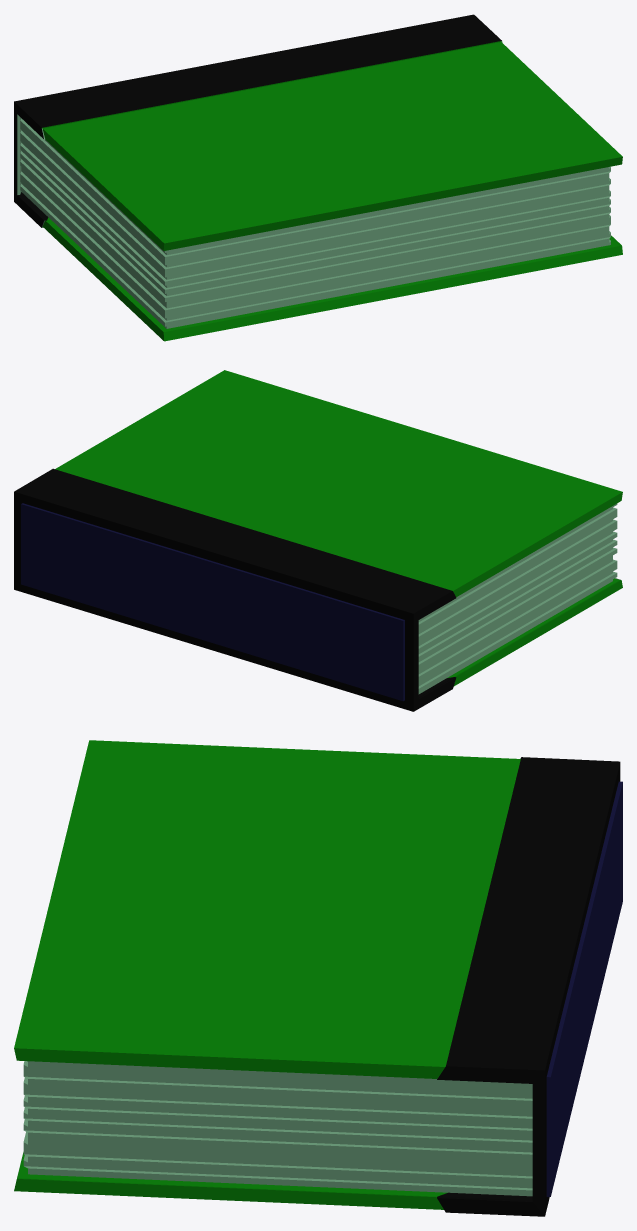
File: DeskDrawerBook.fbx
The picture shows the model from 3 angles, top to bottom: view 1: azimuth 30°, elevation 25°; view 2: azimuth 150°, elevation 25°; view 3: azimuth 270°, elevation 25°; orthographic projection. The views are drawn at different scales.
Parts seen in each view (by area): view 1: TopDrawer Book; view 2: TopDrawer Book; view 3: TopDrawer Book.
Boxes of the visible parts, x1,y1,x2,y2 form: TopDrawer Book: (14,14,622,341); TopDrawer Book: (14,370,622,711); TopDrawer Book: (14,740,622,1216).
Bounding box in the file's own units: 187 × 38.36 × 145.
